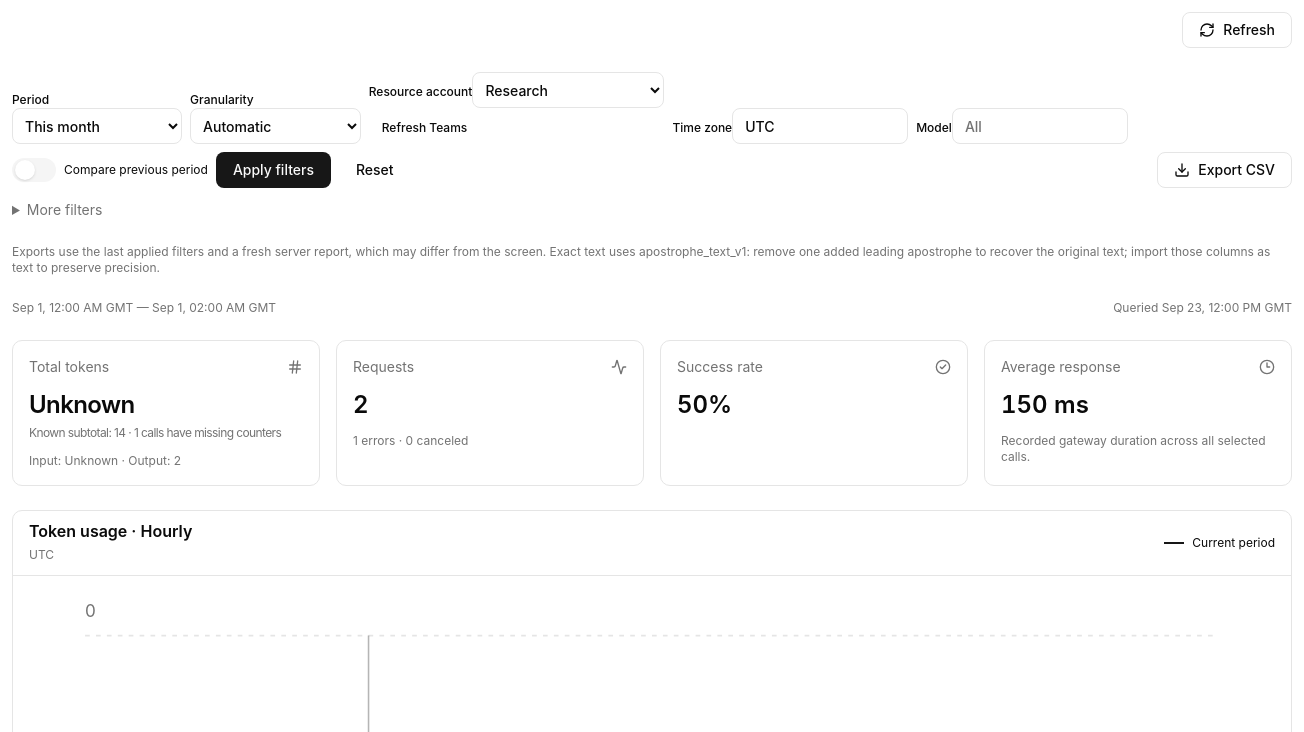
Test case: member Team aggregate usage › hides cached Team facts throughout fresh authorization and after membership denial
Expected: the dropdown named "Resource account" is shown, x1=472 y1=72 x2=664 y2=108
Click the button "Refresh".
click(1237, 30)  # box x1=1182 y1=12 x2=1292 y2=48
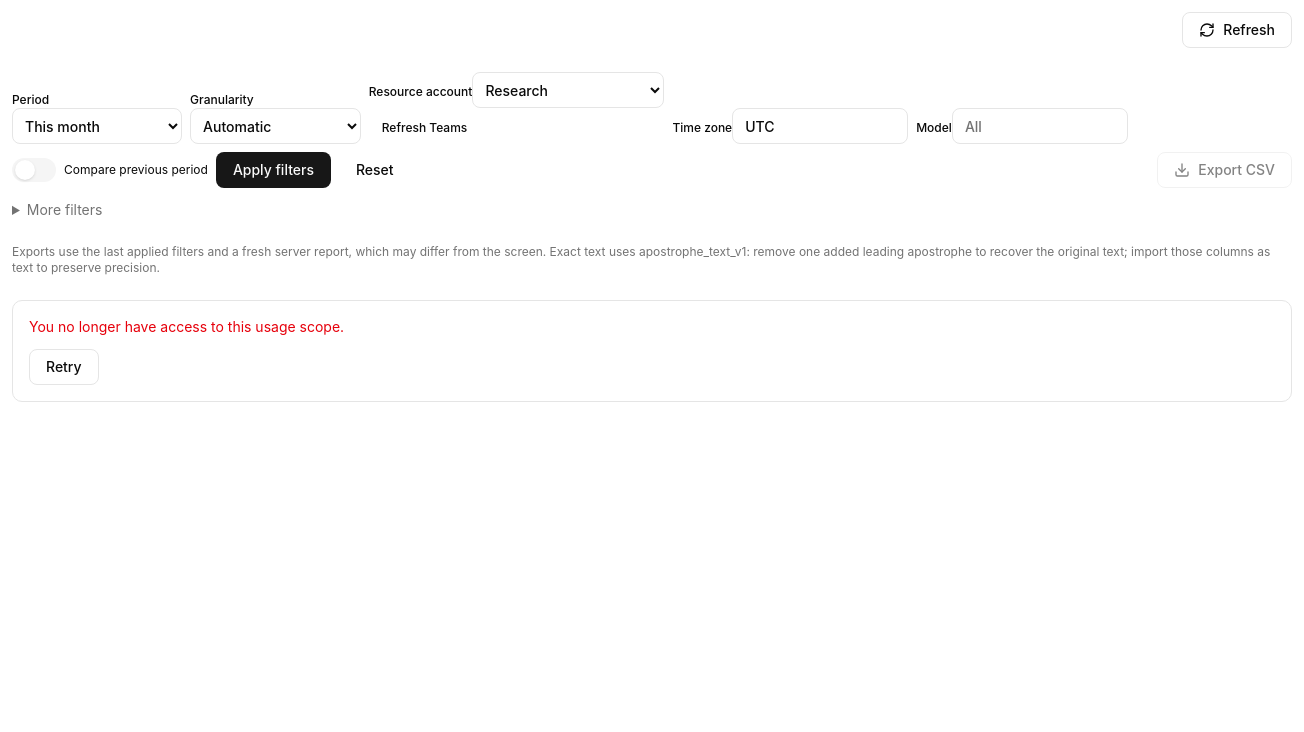
Result: the text "You no longer have access" is shown at x1=29 y1=318 x2=344 y2=335
